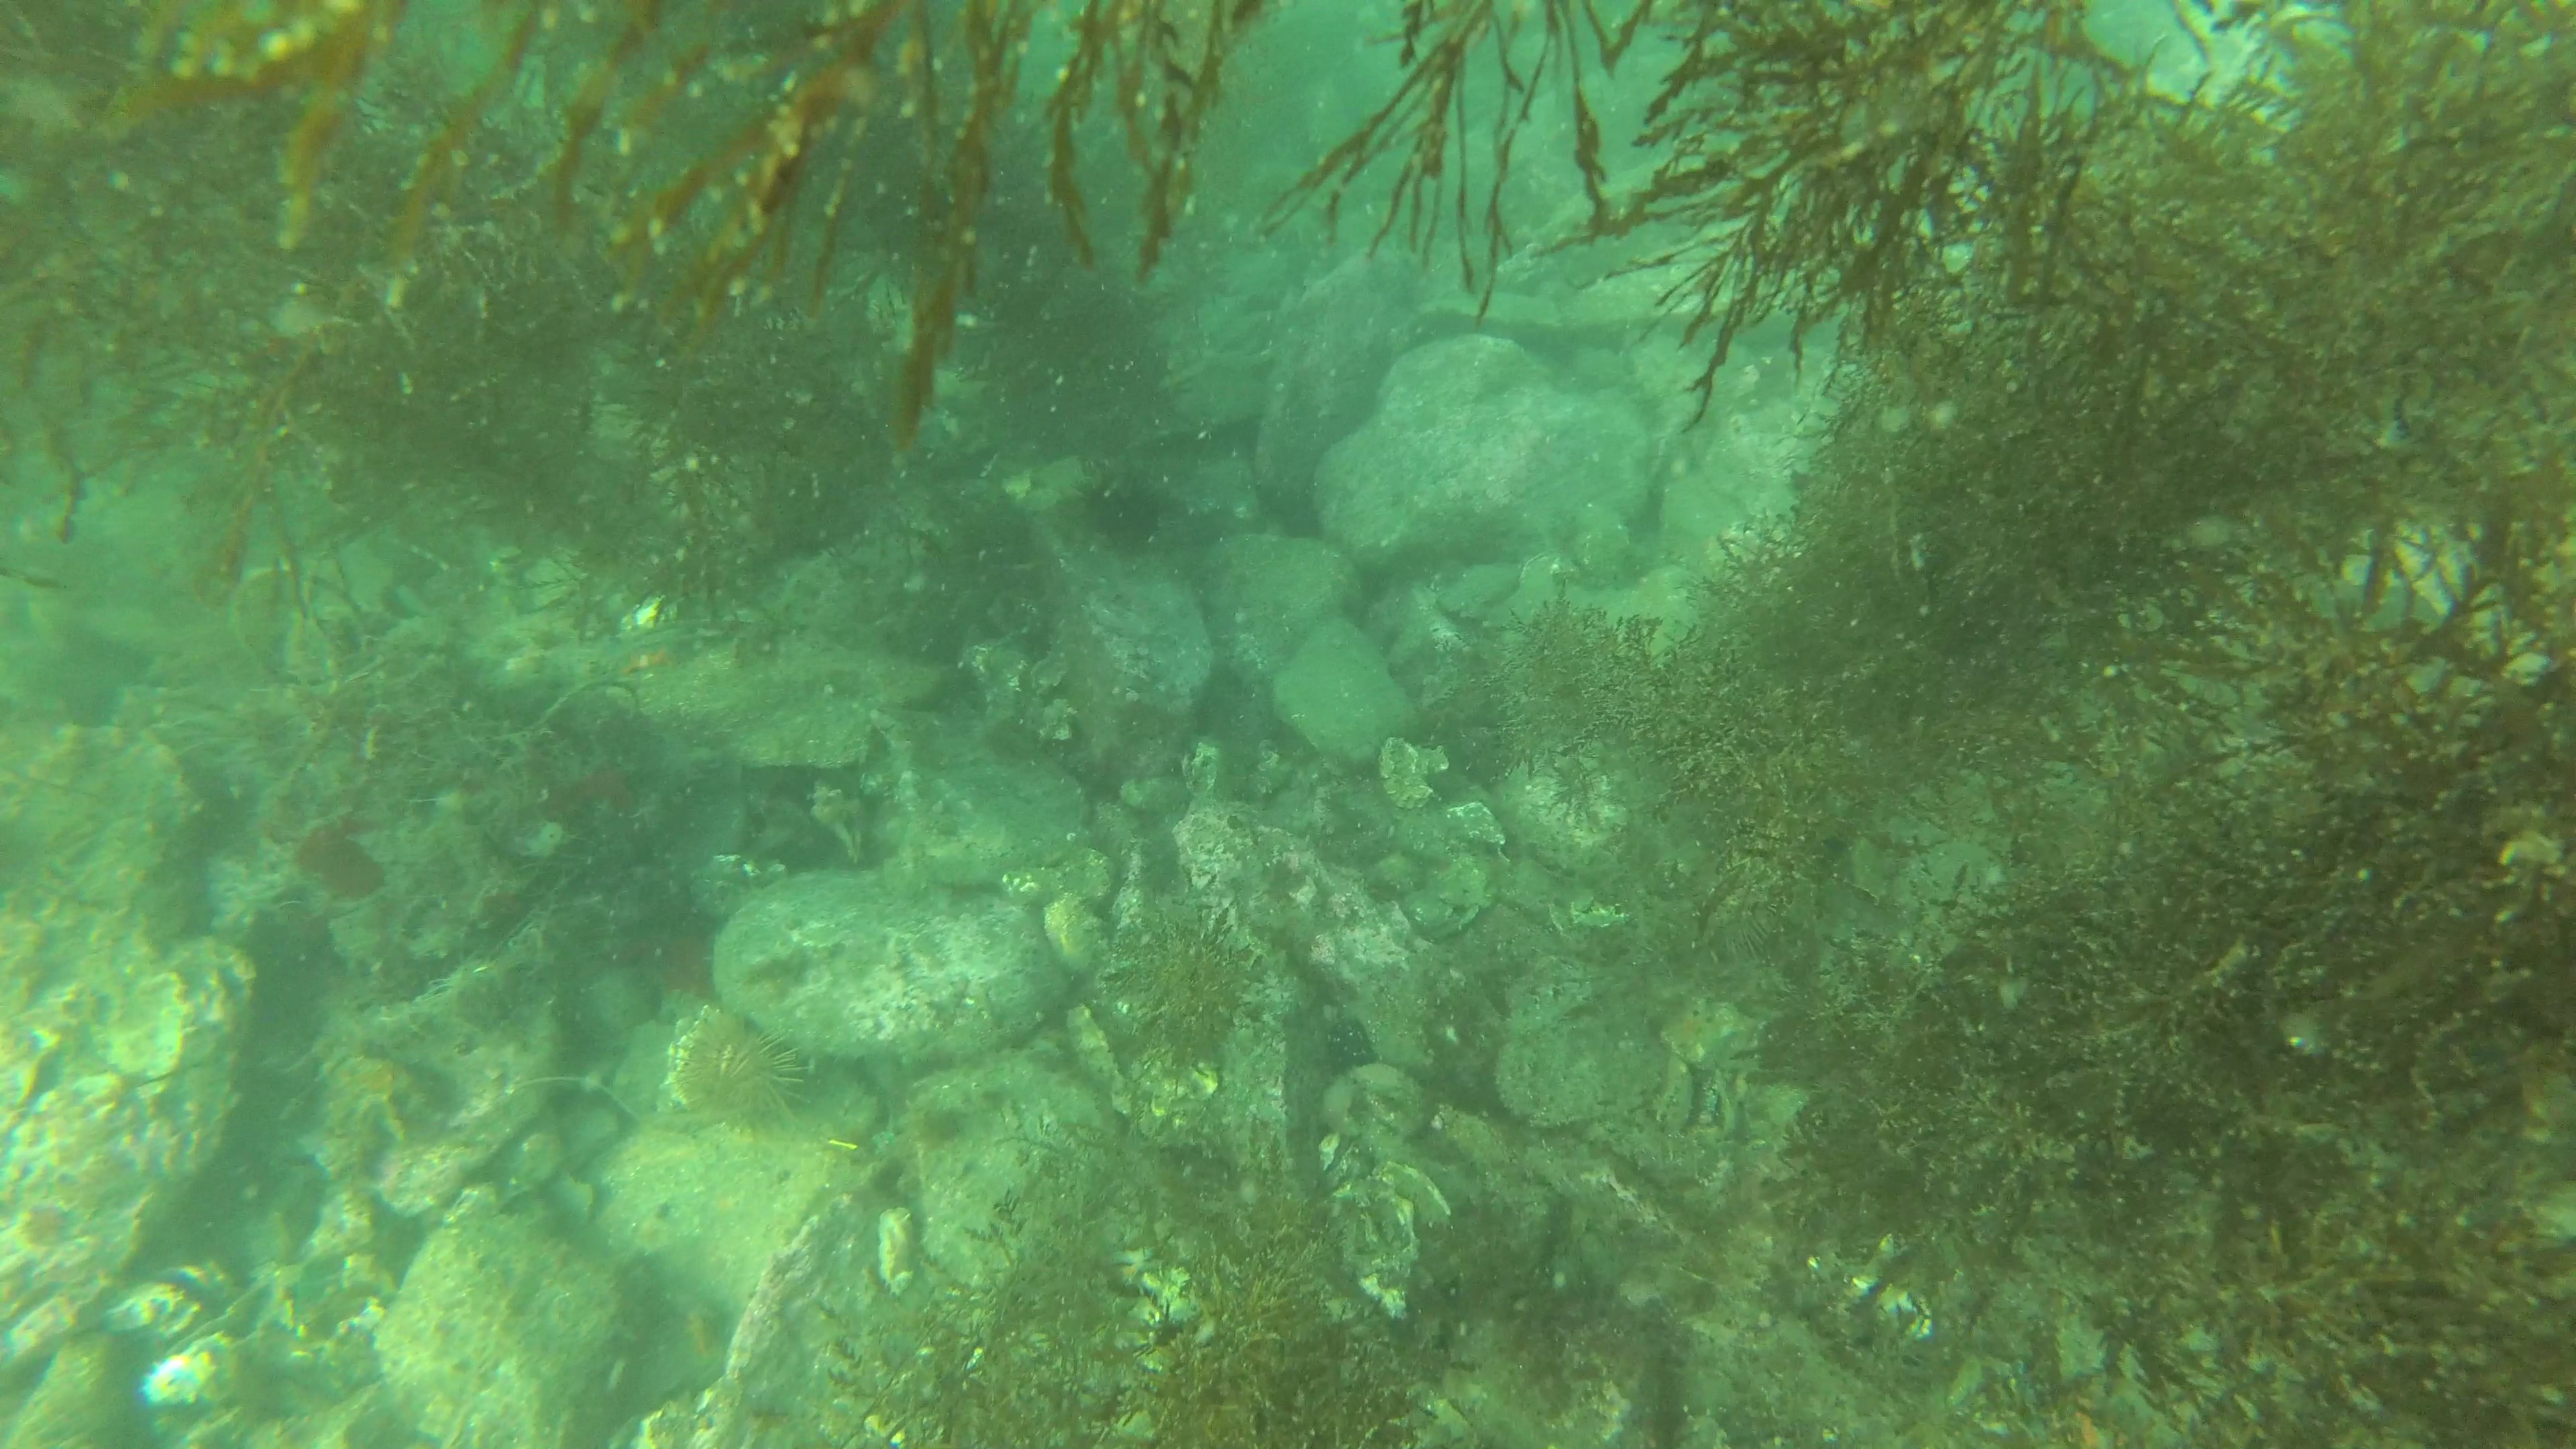echinus: (660, 1005, 821, 1138), (1065, 458, 1182, 557)
